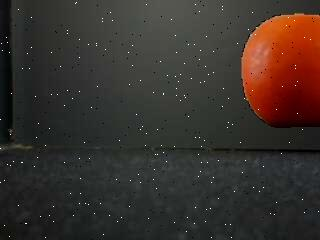Orange: (241, 14, 320, 128)
